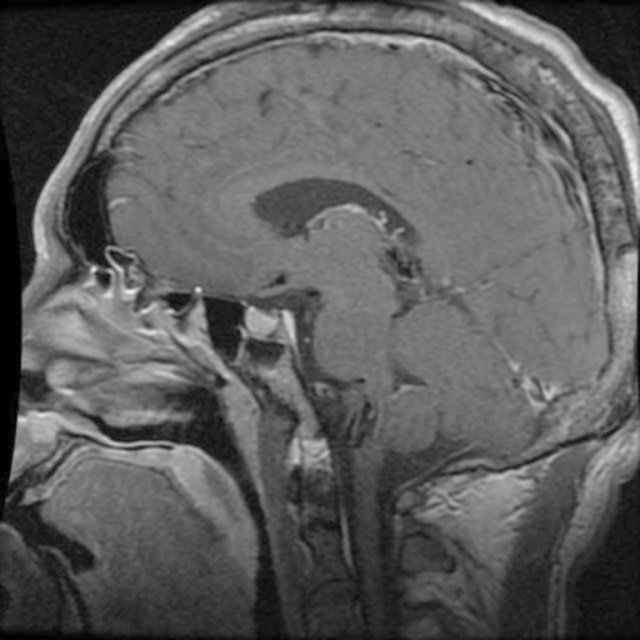no tumor: (234, 295, 296, 346)
